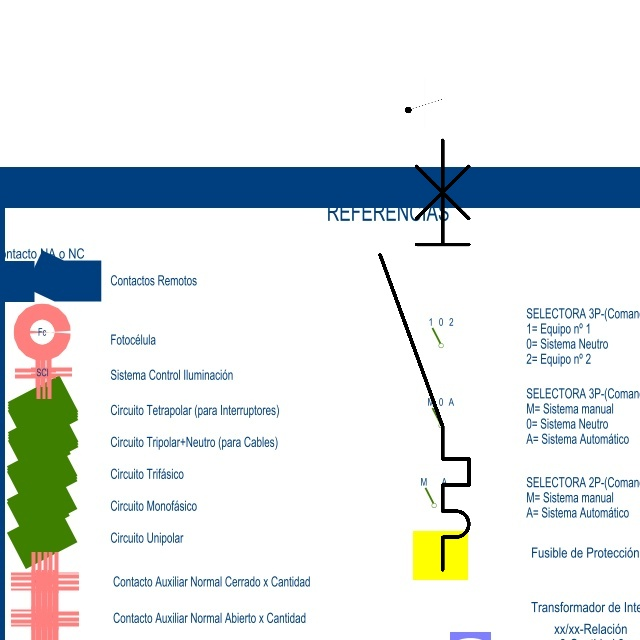interruptor_termomagnetico: (369, 129, 480, 581)
